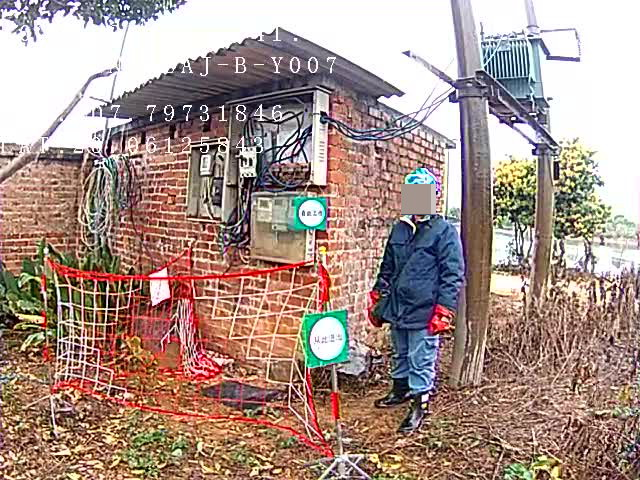downsuit: (391, 330, 443, 395)
halt: (402, 169, 441, 215)
intosign: (300, 310, 350, 364)
longglove: (429, 306, 455, 335), (365, 291, 381, 325)
person: (372, 167, 466, 403)
shoe: (404, 395, 429, 431), (380, 376, 408, 404)
upcloth: (378, 218, 464, 322)
worksign: (295, 198, 328, 227)
